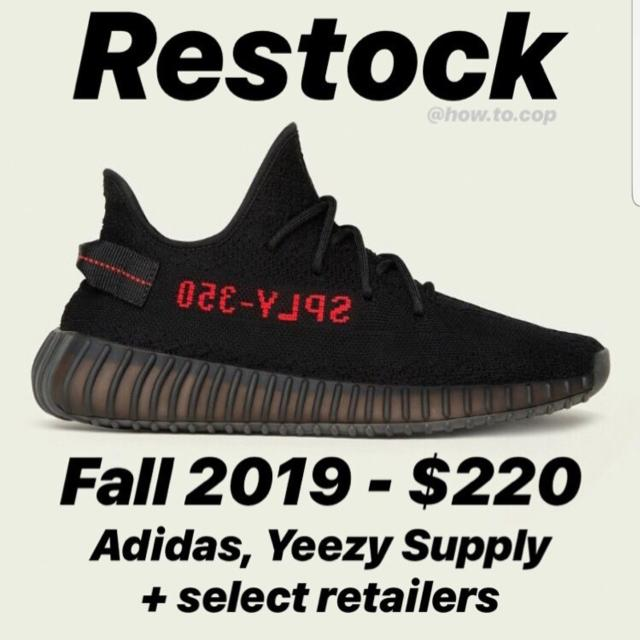shoes: (28, 125, 614, 437)
